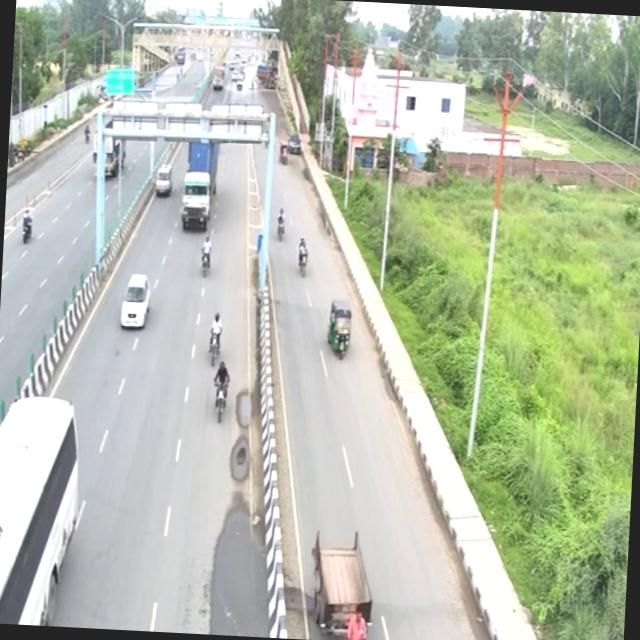car: (300, 532, 379, 640), (118, 267, 156, 334), (149, 160, 176, 199)
